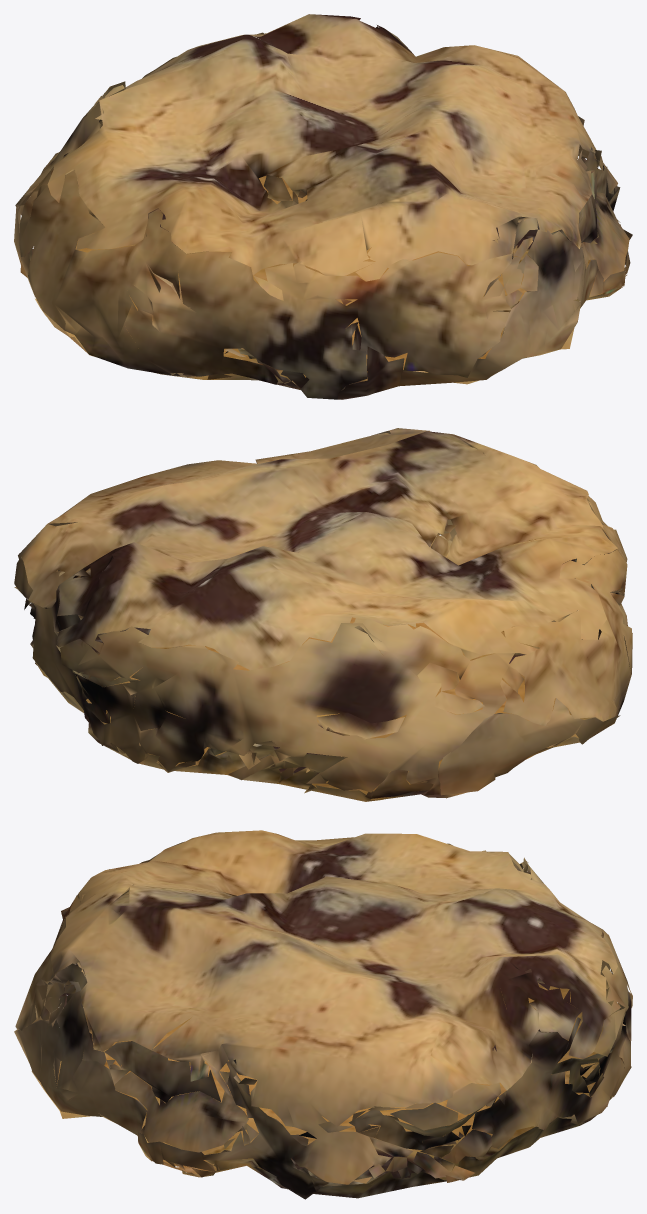
The model's file is chunky-chocolate-peanut-butter-cookie.gltf.
3 renders of one model, top to bottom at view 1: azimuth 30°, elevation 25°; view 2: azimuth 150°, elevation 25°; view 3: azimuth 270°, elevation 25°, orthographic.
Parts seen in each view (by area): view 1: model_New Qlone_20211216_160954144; view 2: model_New Qlone_20211216_160954144; view 3: model_New Qlone_20211216_160954144.
Part boxes in pixels (x1,y1,x2,y2): model_New Qlone_20211216_160954144: [14, 14, 632, 399]; model_New Qlone_20211216_160954144: [14, 428, 632, 801]; model_New Qlone_20211216_160954144: [14, 830, 632, 1199].
Bounding box in the file's own units: 6.32 × 1.85 × 5.98.
Materials: 1 (1 with a texture image).
